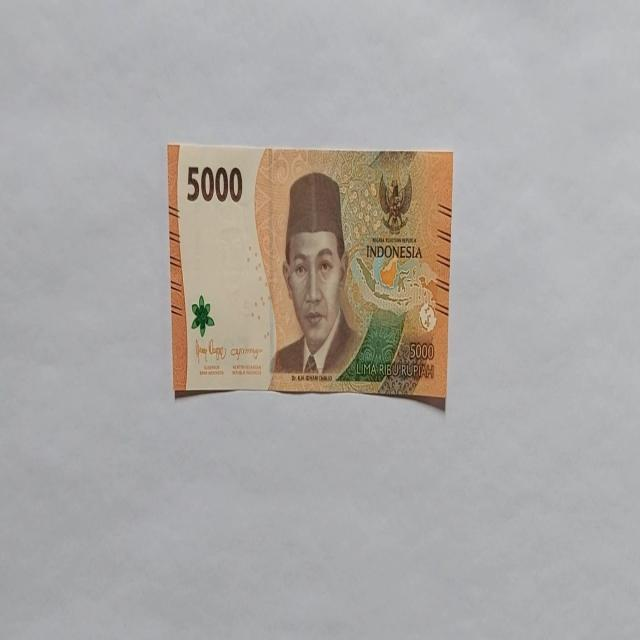lima ribu rupiah: (166, 142, 454, 406), (268, 170, 362, 378)
